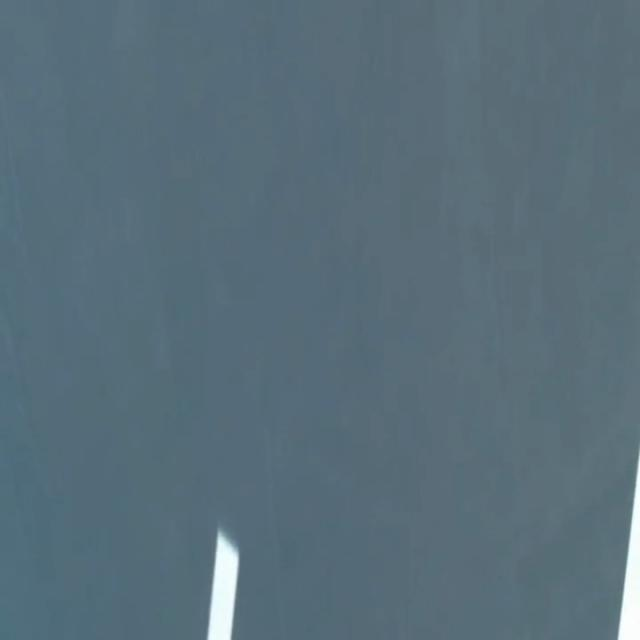center: (206, 530, 238, 639)
right: (618, 453, 639, 639)
